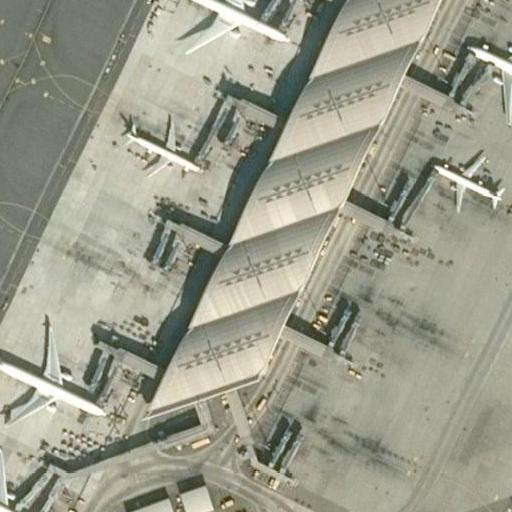Aircraft: (0, 316, 105, 427), (149, 0, 296, 53), (114, 107, 210, 183), (426, 150, 509, 214), (461, 22, 512, 122), (0, 436, 47, 512)
